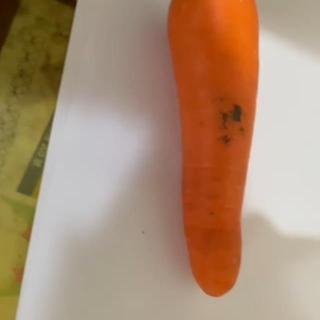carrot: (164, 0, 268, 300)
